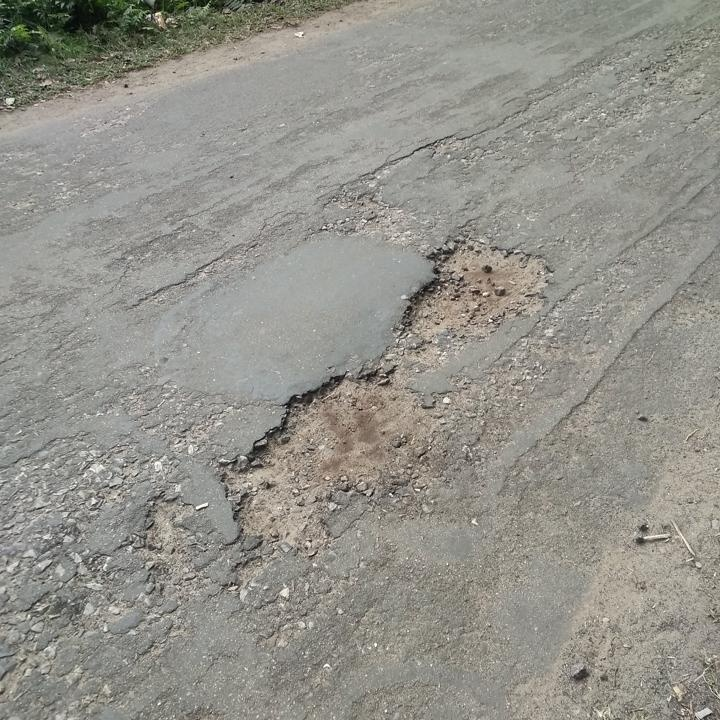pothole: (221, 367, 450, 547), (388, 228, 561, 351), (140, 496, 198, 557)
